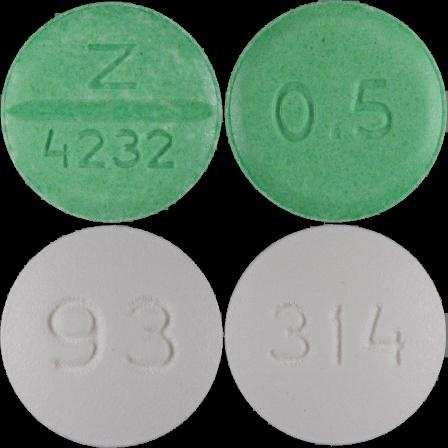68151-0087: (0, 0, 224, 224)
